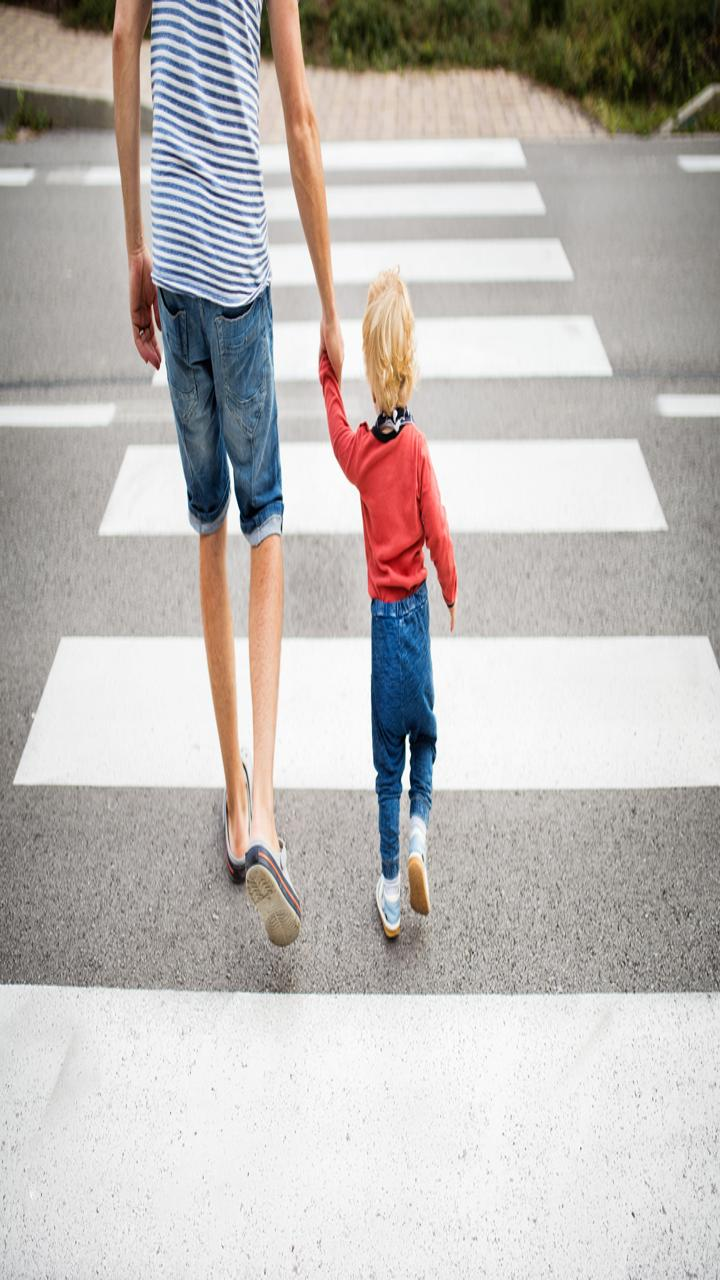pedestrian: (66, 1, 343, 951), (306, 261, 536, 944)
